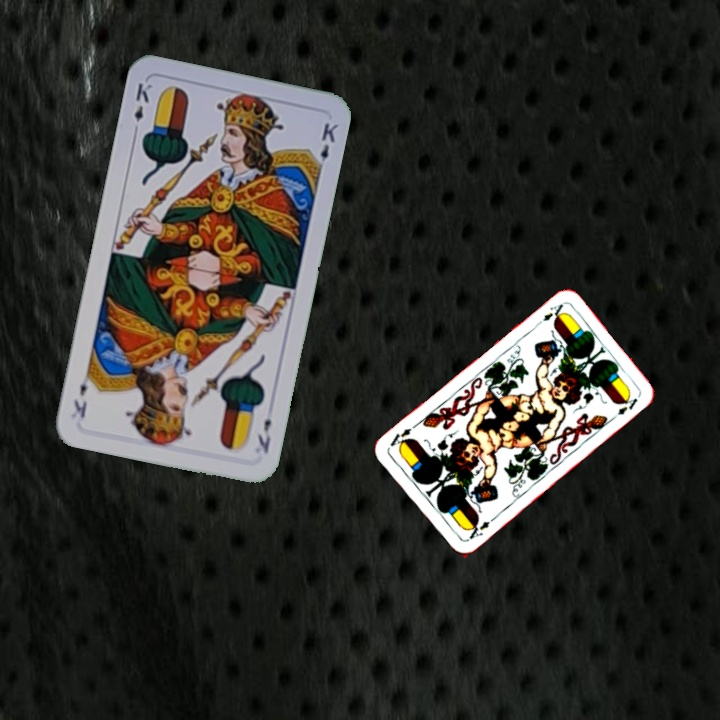EA: (531, 299, 566, 330), (463, 513, 499, 543)
EK: (129, 79, 154, 137), (253, 414, 274, 456)
